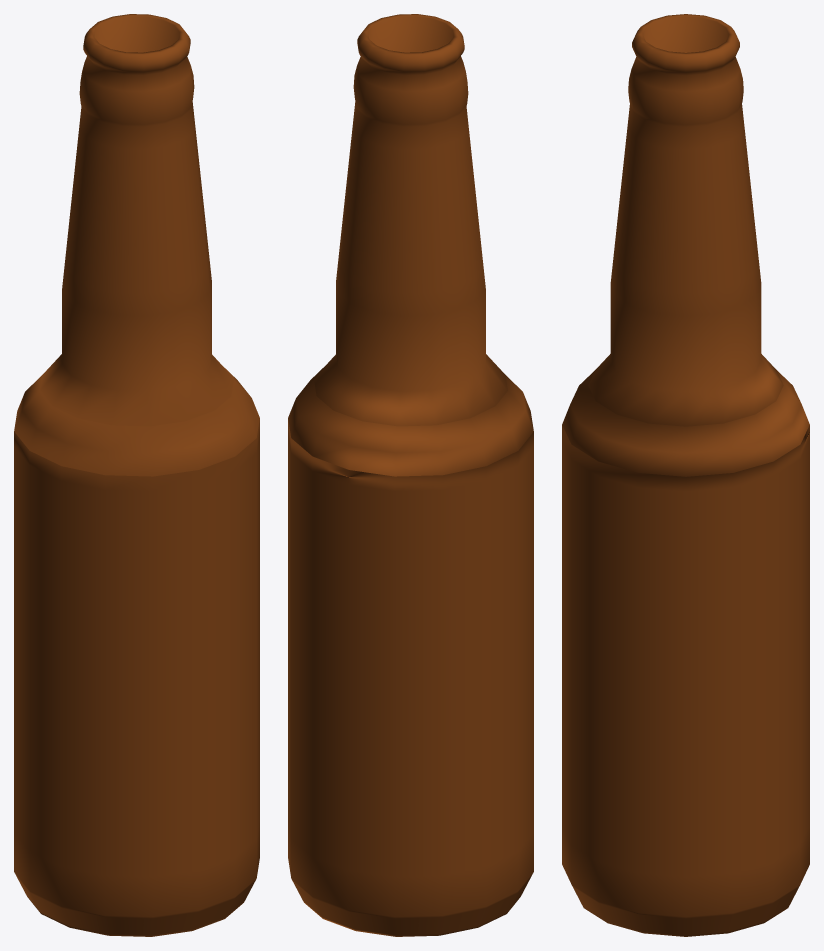
Rendered from BeerBottle.fbx.
3 views of the same model, side by side, from view 1: azimuth 30°, elevation 25°; view 2: azimuth 150°, elevation 25°; view 3: azimuth 270°, elevation 25° (orthographic).
Parts seen in each view (by area): view 1: BeerBottle; view 2: BeerBottle; view 3: BeerBottle.
Part boxes in pixels (x1,y1,x2,y2): BeerBottle: (14, 14, 259, 936); BeerBottle: (288, 14, 533, 936); BeerBottle: (562, 14, 809, 936).
Size of the model in its own units: 0.0727 by 0.2769 by 0.0727.
